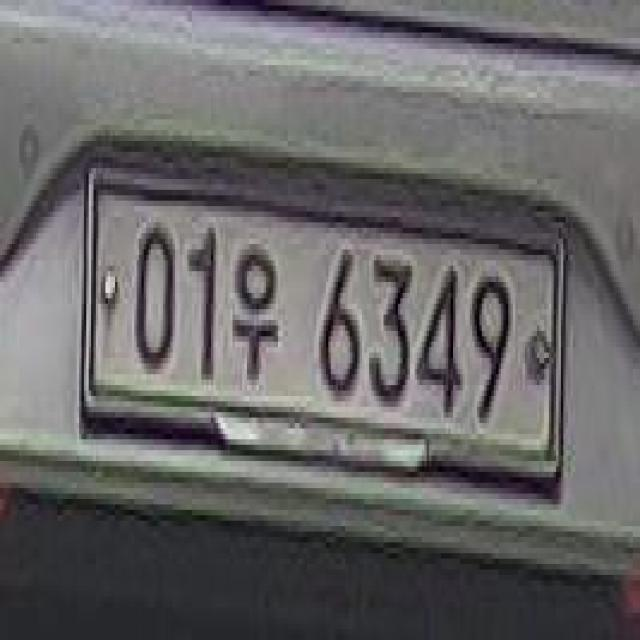illegal_plate: (81, 167, 568, 503)
